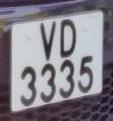3: (16, 61, 40, 110), (37, 59, 59, 106), (58, 57, 78, 102)
5: (76, 53, 95, 98)
D: (57, 16, 77, 58)
V: (38, 19, 58, 61)
